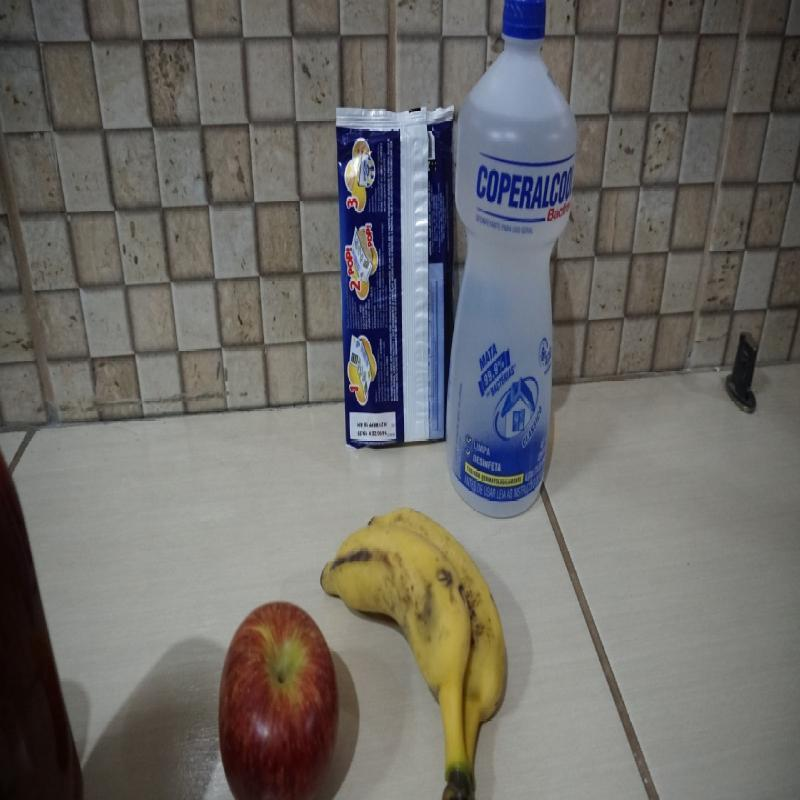Alcohol Bottle: (445, 0, 578, 522)
Apple: (218, 602, 340, 798)
Banana: (322, 508, 509, 796)
Ketchup: (0, 443, 84, 799)
Popcorn: (333, 104, 457, 450)
